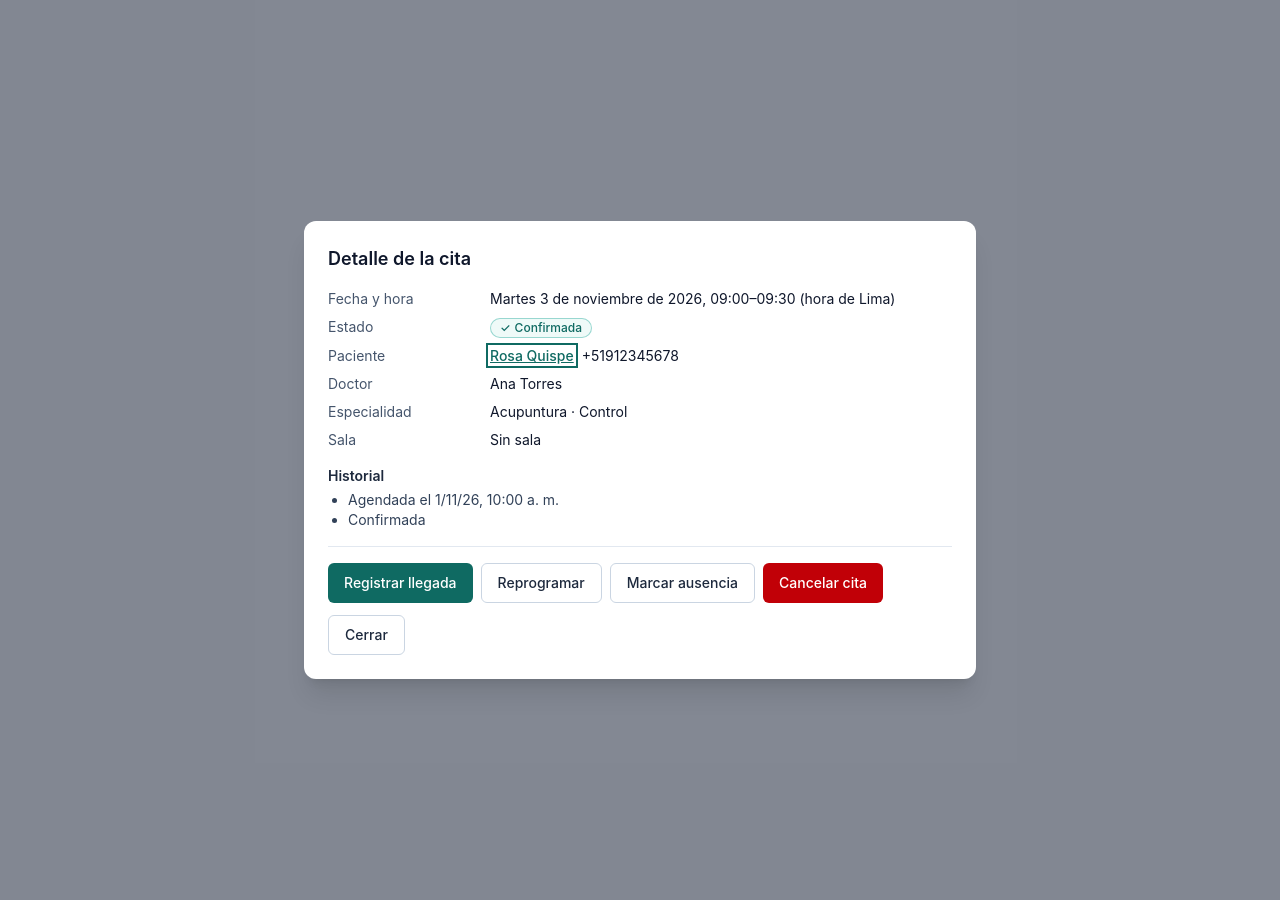
Scenario: AppointmentDetailDialog: acciones › check-in fuera de día: muestra el mensaje del servidor
The width and height of the screenshot is (1280, 900).
What coordinates should you click on to do the following:
click the button "Registrar llegada"
I would click on:
 (400, 583)
Its box is [328, 563, 473, 603].
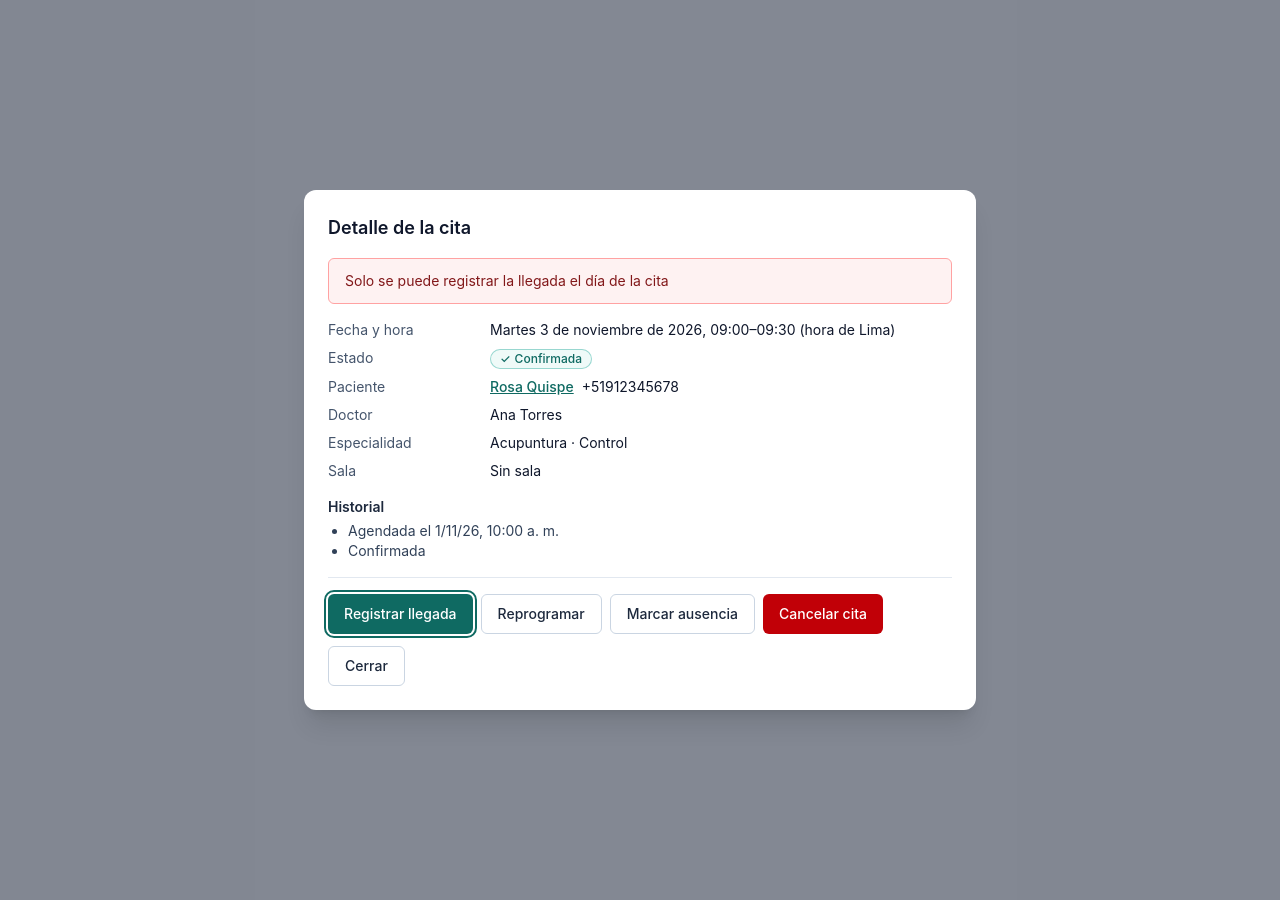
expect the message shows "el día de la cita": met, box [345, 272, 669, 289]
